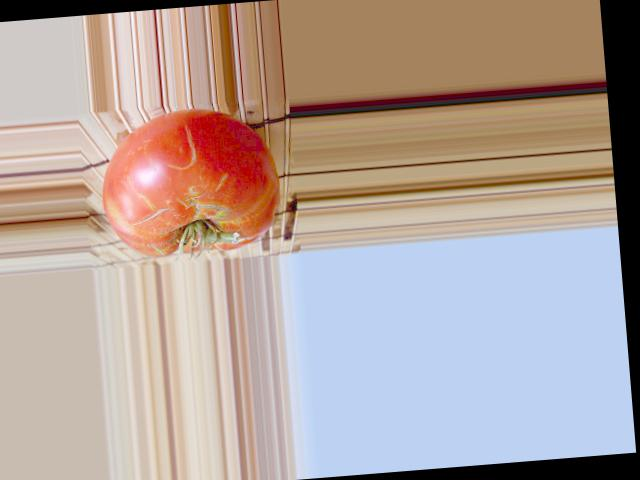tomato: (96, 104, 284, 261)
